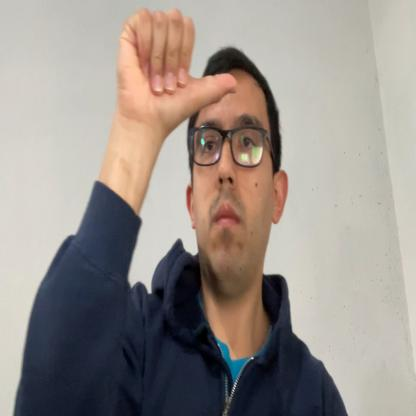A: (115, 7, 237, 139)
